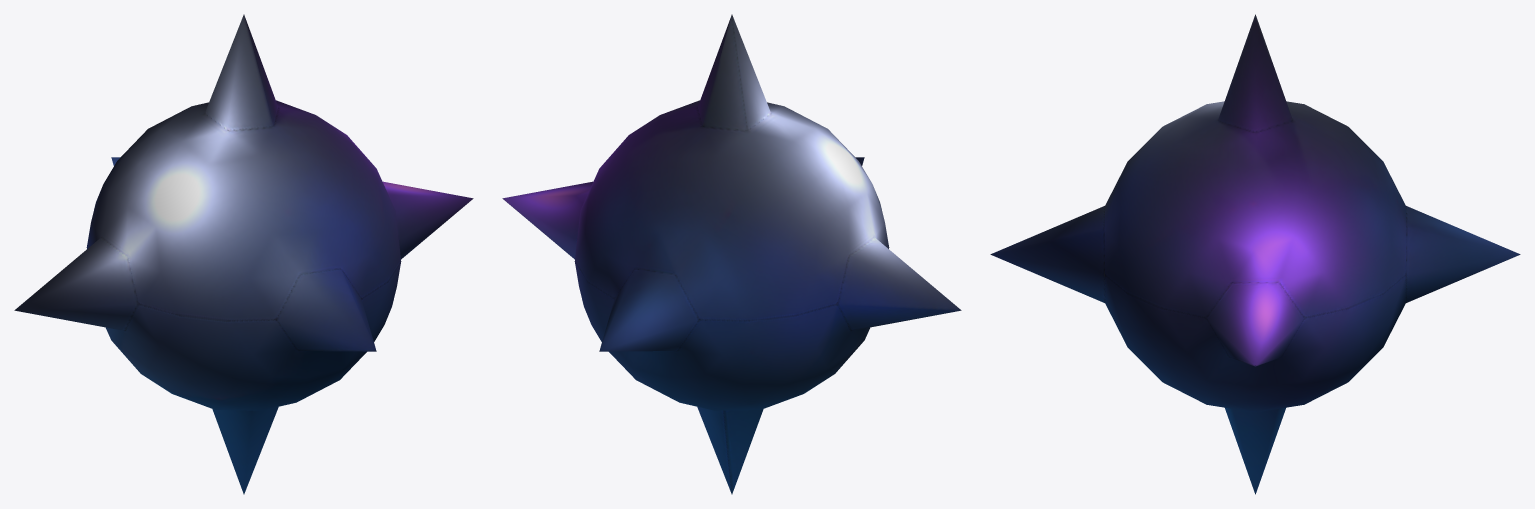
File: spike.glb
The picture shows the model from 3 angles, left to right: view 1: azimuth 30°, elevation 25°; view 2: azimuth 150°, elevation 25°; view 3: azimuth 270°, elevation 25°; orthographic projection.
Visible parts, largest first — view 1: SpikeBaked; view 2: SpikeBaked; view 3: SpikeBaked.
Part boxes in pixels (bbox=[...]): SpikeBaked: bbox=[14, 14, 473, 494]; SpikeBaked: bbox=[502, 14, 961, 494]; SpikeBaked: bbox=[990, 14, 1520, 494].
Bounding box in the file's own units: 1.89 × 1.89 × 1.89.
1 material, 1 textured.
